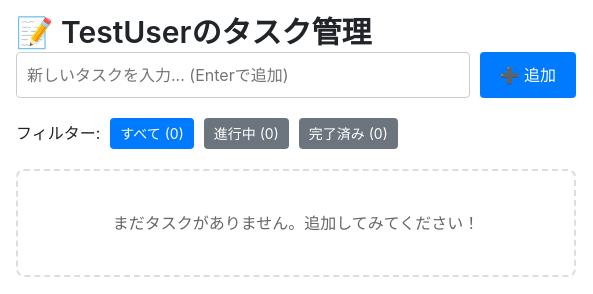
Test: Task Operations Integration Tests (US1) › タスク追加の受入シナリオ › AS-001: 空でないタスクを追加できる
タスクを入力して追加
Type "テストタスク1" into the field with placeholder "新しいタスクを入力... (Enterで追加)". click: point(243, 74)
box: x1=16 y1=52 x2=470 y2=98
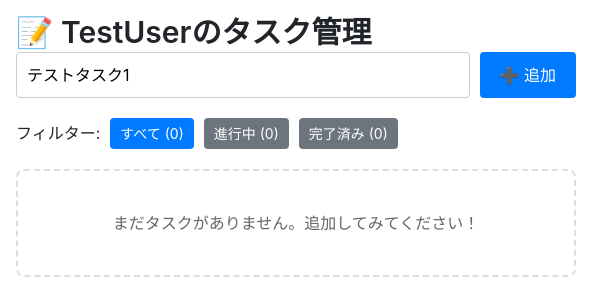
Click the button "➕ 追加". click: point(528, 74)
box: x1=480 y1=52 x2=576 y2=98
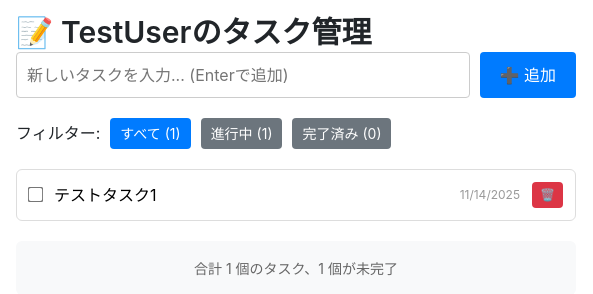
Result: the text "テストタスク1" is shown at x1=54 y1=184 x2=156 y2=204
Result: the field with placeholder "新しいタスクを入力... (Enterで追加)" is empty at x1=16 y1=52 x2=470 y2=98
